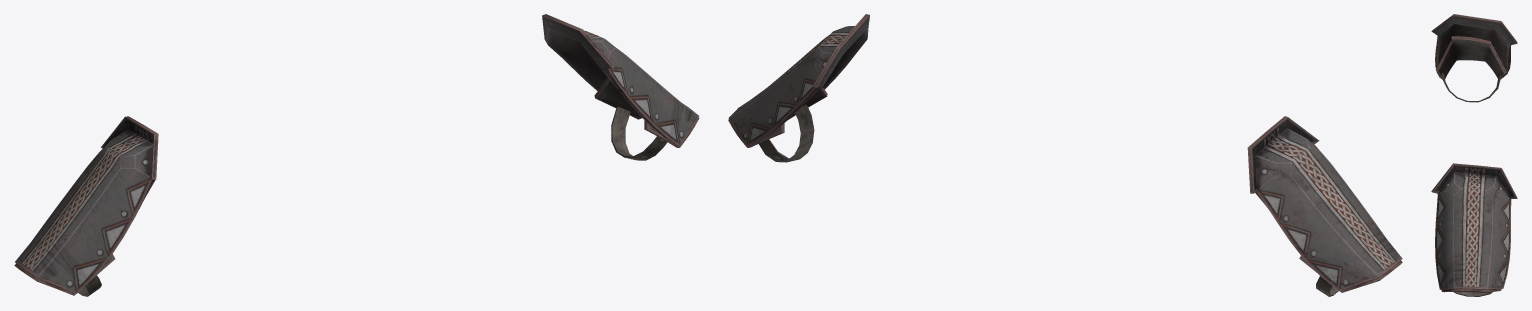
The model's file is sk_dwarf_iron_bracer_heavy_c1.fbx.
3 renders of one model, left to right at view 1: azimuth 30°, elevation 25°; view 2: azimuth 150°, elevation 25°; view 3: azimuth 270°, elevation 25°, orthographic. The views are drawn at different scales.
Visible parts, largest first — view 1: sk_dwarf_iron_bracer_heavy_c1; view 2: sk_dwarf_iron_bracer_heavy_c1; view 3: sk_dwarf_iron_bracer_heavy_c1.
Boxes of the visible parts, left/top/right/bottom form: sk_dwarf_iron_bracer_heavy_c1: left=14, top=14, right=699, bottom=296; sk_dwarf_iron_bracer_heavy_c1: left=728, top=14, right=1402, bottom=296; sk_dwarf_iron_bracer_heavy_c1: left=1431, top=14, right=1517, bottom=296.
Size of the model in its own units: 1.2 by 0.1871 by 0.2635.
1 material, 1 textured.
